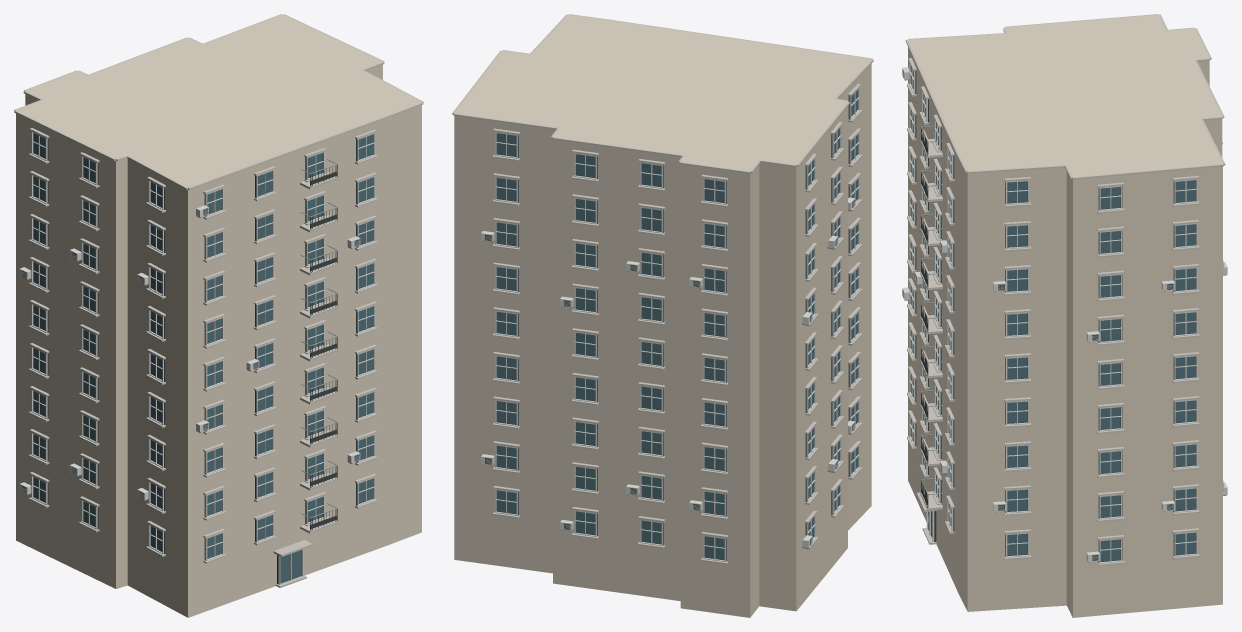
File: completion-539189135.glb
The picture shows the model from 3 angles, left to right: view 1: azimuth 30°, elevation 25°; view 2: azimuth 150°, elevation 25°; view 3: azimuth 270°, elevation 25°; orthographic projection. The views are drawn at different scales.
Parts seen in each view (by area): view 1: 539189135 Block 539189135 mineral plaster, 539189135 glass, 539189135 frame, 539189135 stone, 539189135 dark, 539189135 steel; view 2: 539189135 Block 539189135 mineral plaster, 539189135 glass, 539189135 frame, 539189135 stone, 539189135 dark; view 3: 539189135 Block 539189135 mineral plaster, 539189135 stone, 539189135 glass, 539189135 frame, 539189135 dark, 539189135 steel.
Boxes of the visible parts, left/top/right/bottom form: 539189135 Block 539189135 mineral plaster: left=16, top=14, right=421, bottom=617; 539189135 glass: left=33, top=133, right=373, bottom=583; 539189135 frame: left=19, top=131, right=374, bottom=584; 539189135 stone: left=14, top=14, right=423, bottom=587; 539189135 dark: left=22, top=138, right=372, bottom=583; 539189135 steel: left=20, top=159, right=359, bottom=569; 539189135 Block 539189135 mineral plaster: left=454, top=15, right=871, bottom=617; 539189135 glass: left=497, top=90, right=858, bottom=559; 539189135 frame: left=481, top=87, right=859, bottom=561; 539189135 stone: left=452, top=14, right=873, bottom=564; 539189135 dark: left=485, top=96, right=856, bottom=561; 539189135 Block 539189135 mineral plaster: left=908, top=15, right=1222, bottom=617; 539189135 stone: left=905, top=14, right=1225, bottom=566; 539189135 glass: left=910, top=66, right=1195, bottom=561; 539189135 frame: left=902, top=63, right=1227, bottom=563; 539189135 dark: left=902, top=70, right=1196, bottom=562; 539189135 steel: left=902, top=71, right=1226, bottom=563.
Bounding box in the file's own units: 25.92 × 32 × 21.43.
